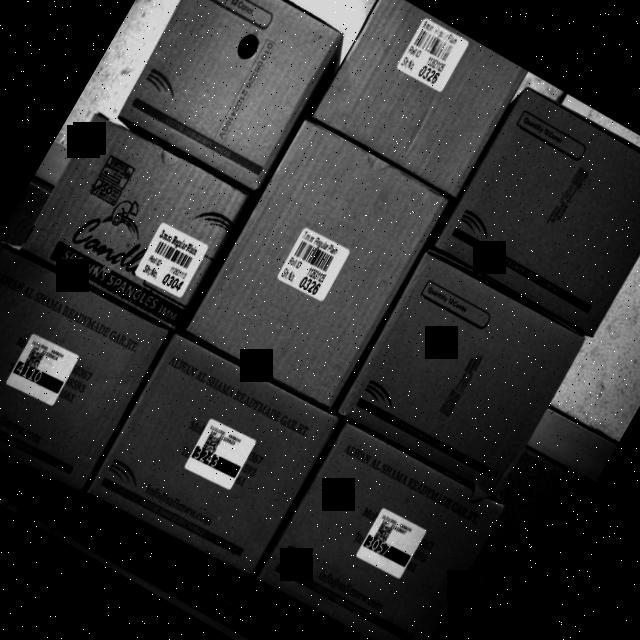box: (184, 112, 454, 414), (86, 324, 344, 586), (334, 243, 590, 503), (14, 102, 256, 340), (425, 79, 640, 341), (251, 428, 502, 640), (106, 0, 352, 200), (0, 238, 172, 515), (310, 0, 527, 201)
